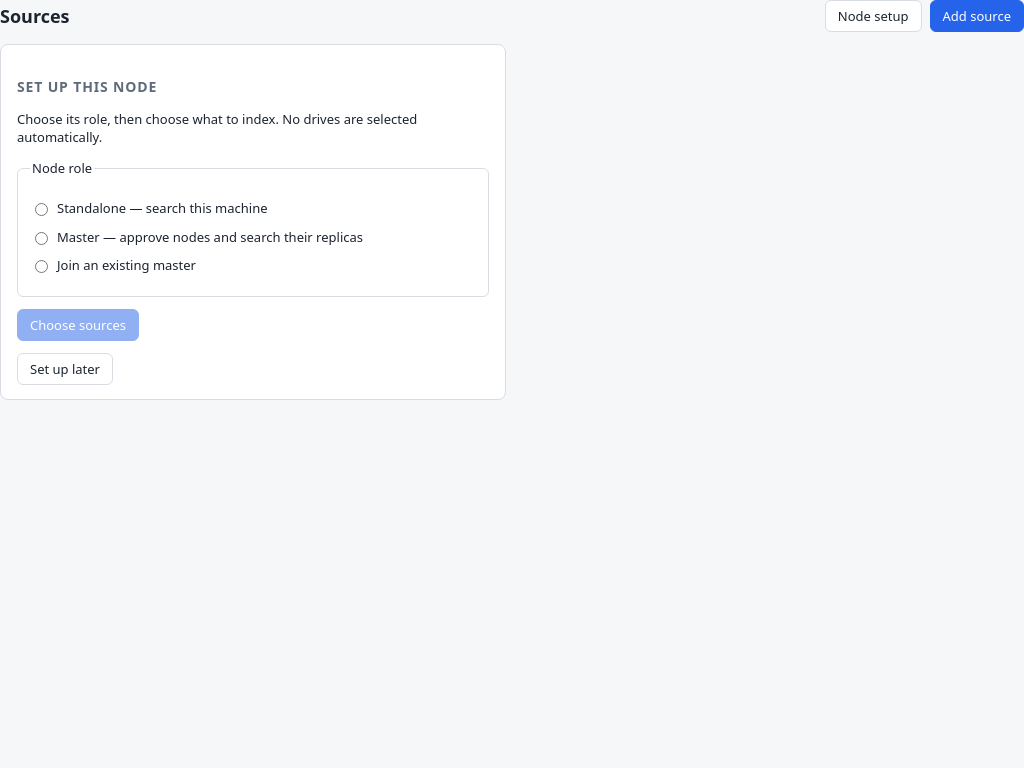
Test: manual add keeps its successful result when initial scanning fails
Click the button "Add source".
click(977, 16)  # box [930,0,1023,32]
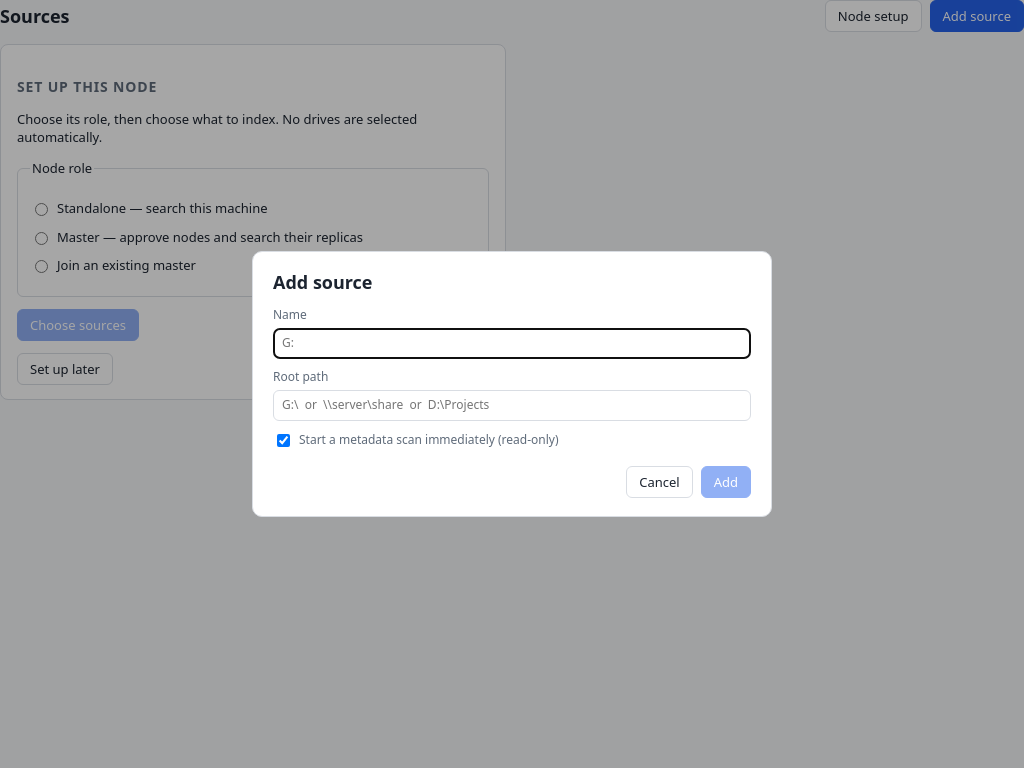
Type "documents" into the field labelled "Name".
click(512, 344); type("documents")  # box [273,328,751,359]
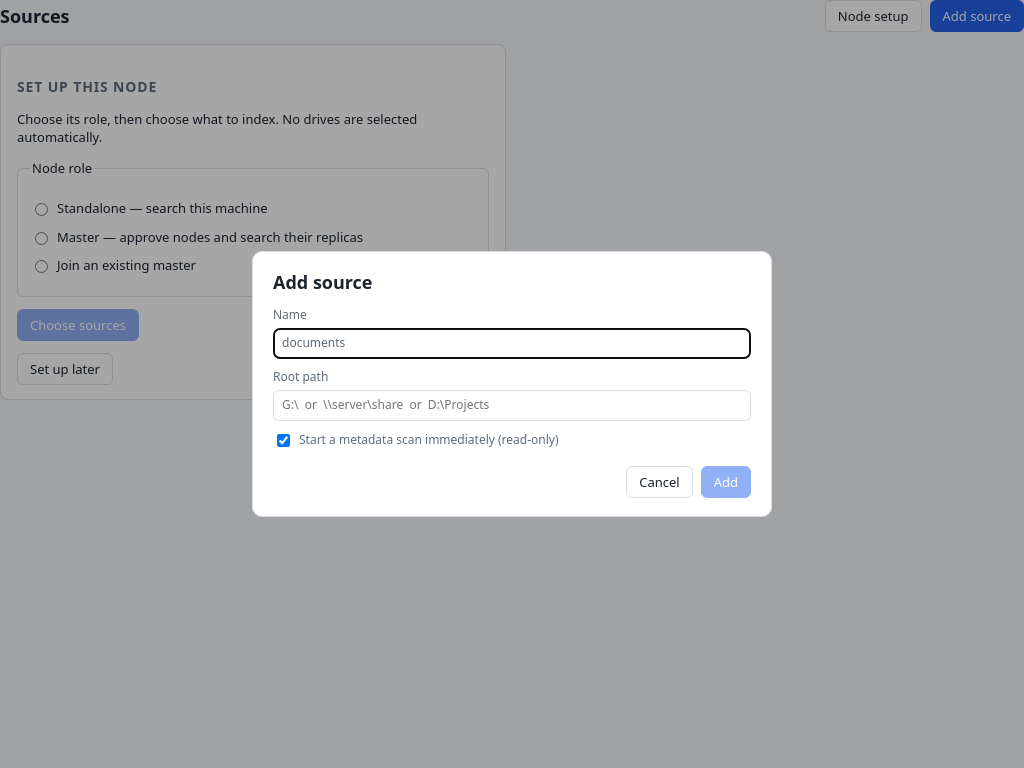
Type "D:\\documents" into the field labelled "Root path".
click(512, 405); type("D:\\documents")  # box [273,390,751,421]
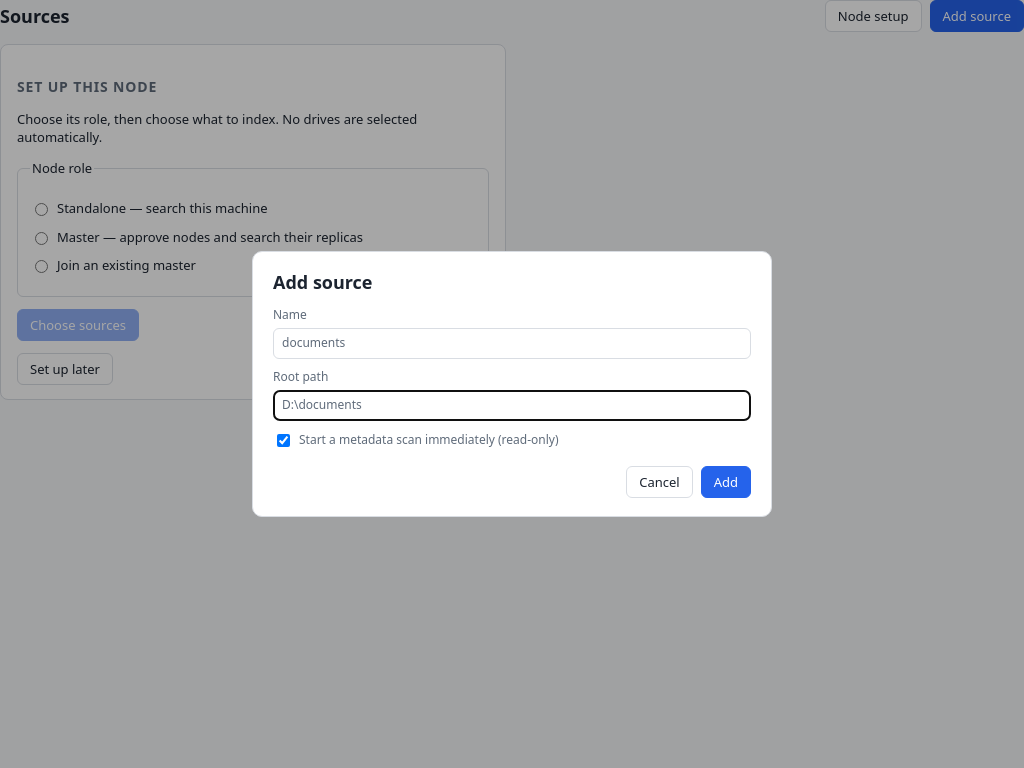
Click the button "Add".
click(726, 482)  # box [701,466,751,498]
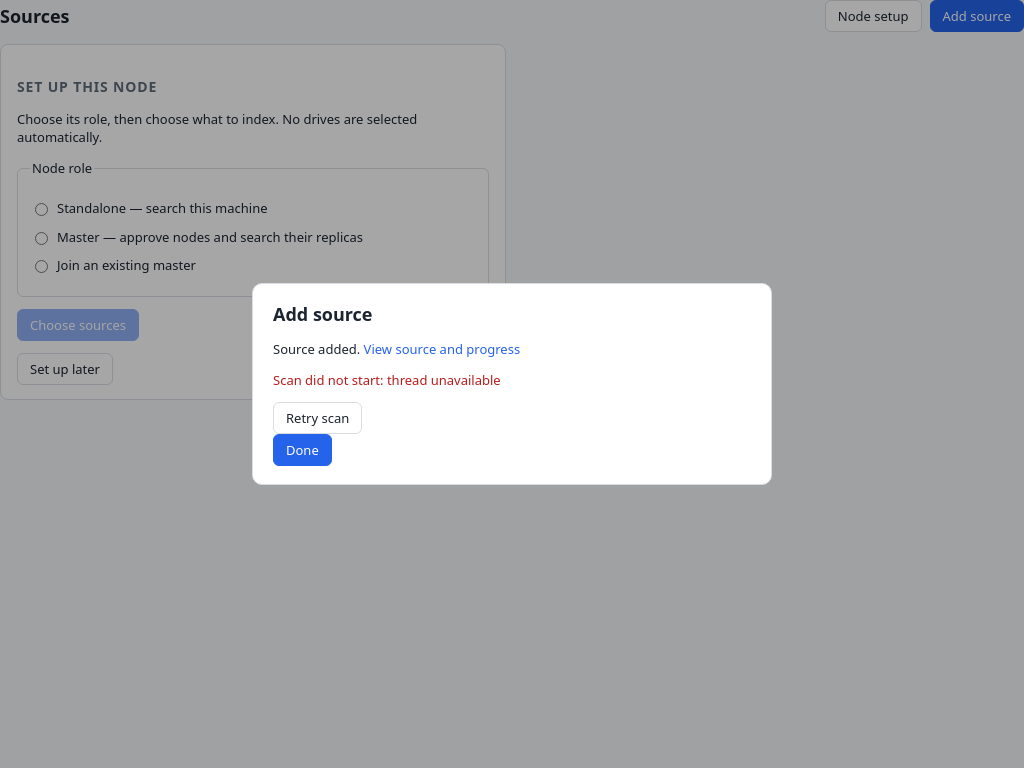
Expected: the text "Scan did not start: thread unavailable" is shown, [273,371,501,389]
Expected: the button "Retry scan" is shown, [273,402,362,434]
